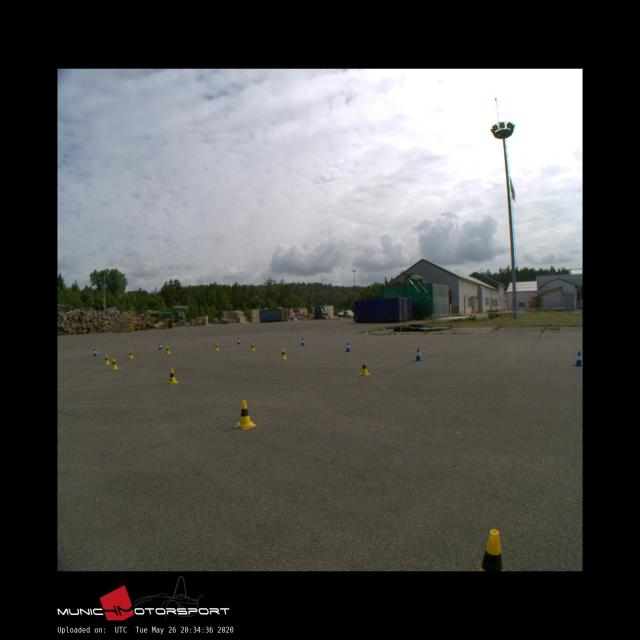blue_cone: (574, 351, 582, 366), (414, 348, 422, 361), (345, 342, 351, 352), (93, 348, 97, 356), (158, 342, 162, 350), (301, 338, 305, 346), (237, 338, 241, 344)
yellow_cone: (479, 530, 503, 570), (234, 399, 256, 429), (167, 368, 178, 383), (359, 360, 370, 375), (110, 358, 117, 370), (280, 348, 287, 359), (128, 349, 134, 358), (104, 354, 109, 364), (250, 342, 256, 350), (214, 342, 219, 350), (166, 346, 170, 354)
